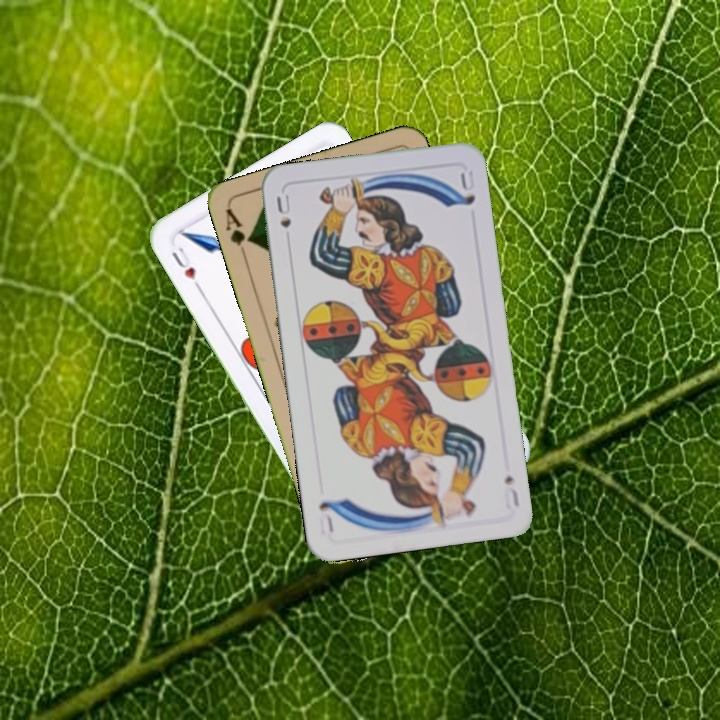GA: (221, 205, 255, 263)
HU: (167, 242, 204, 293)
SU: (499, 470, 522, 511), (272, 190, 294, 230)
